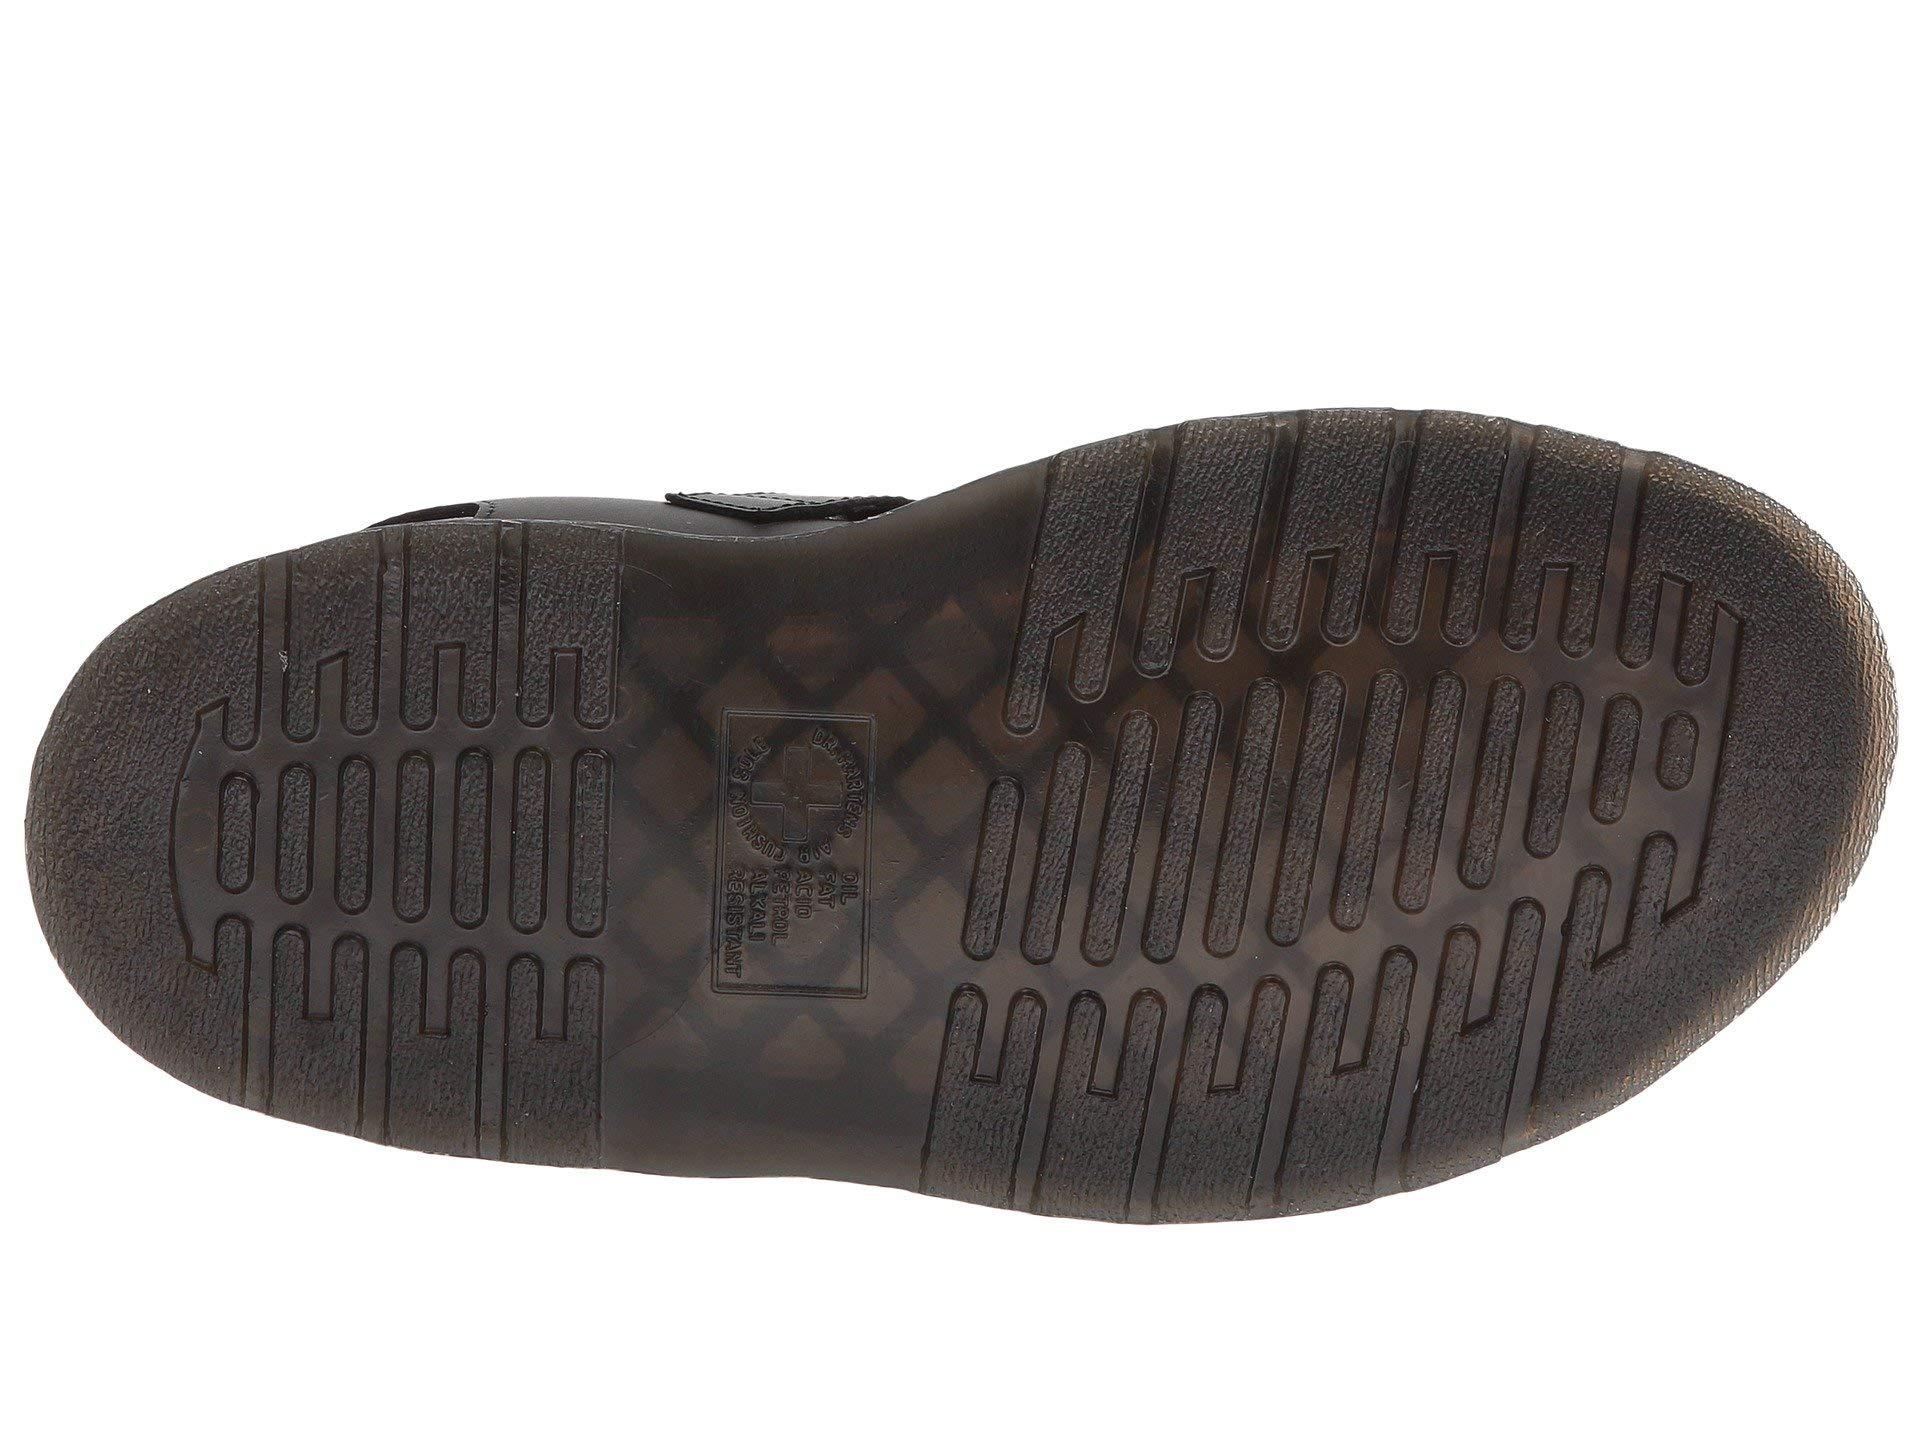circle: (689, 681, 909, 1050)
quad: (934, 632, 1731, 983), (190, 734, 635, 947), (689, 681, 909, 1050)
star: (689, 681, 909, 1050)
text: (689, 681, 909, 1050)
